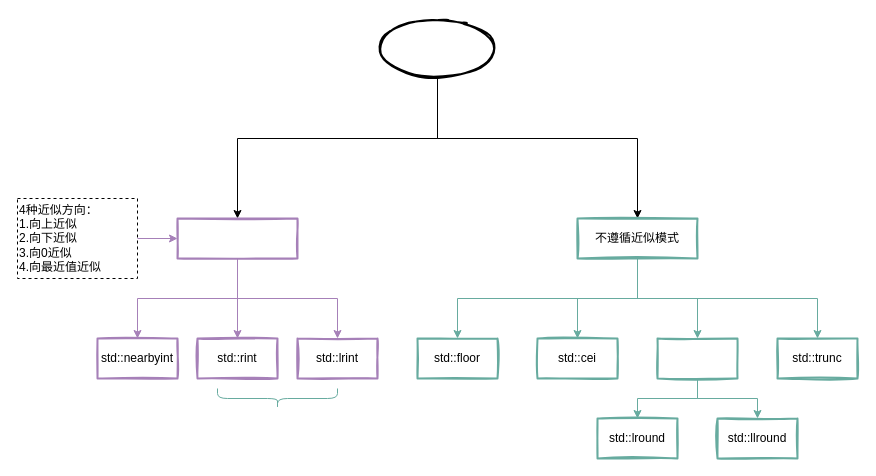
Some shapes in this 876 by 476 pixel diagram are drawn without their labels. The box of each missing label's shape, as (x1, y1, x2, y2) in pixels:
std::round: (656, 337, 738, 379)
会报异常: (216, 388, 338, 408)
近似: (376, 17, 498, 79)
遵循近似模式: (176, 217, 298, 259)
